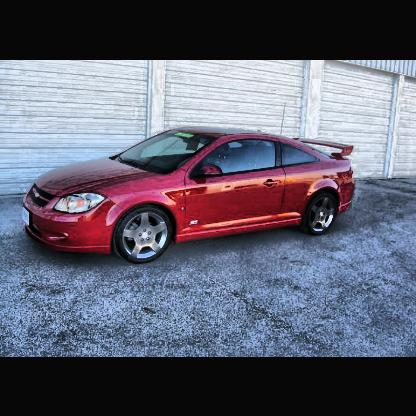Chevrolet Cobalt SS 2010: (21, 125, 357, 265)
